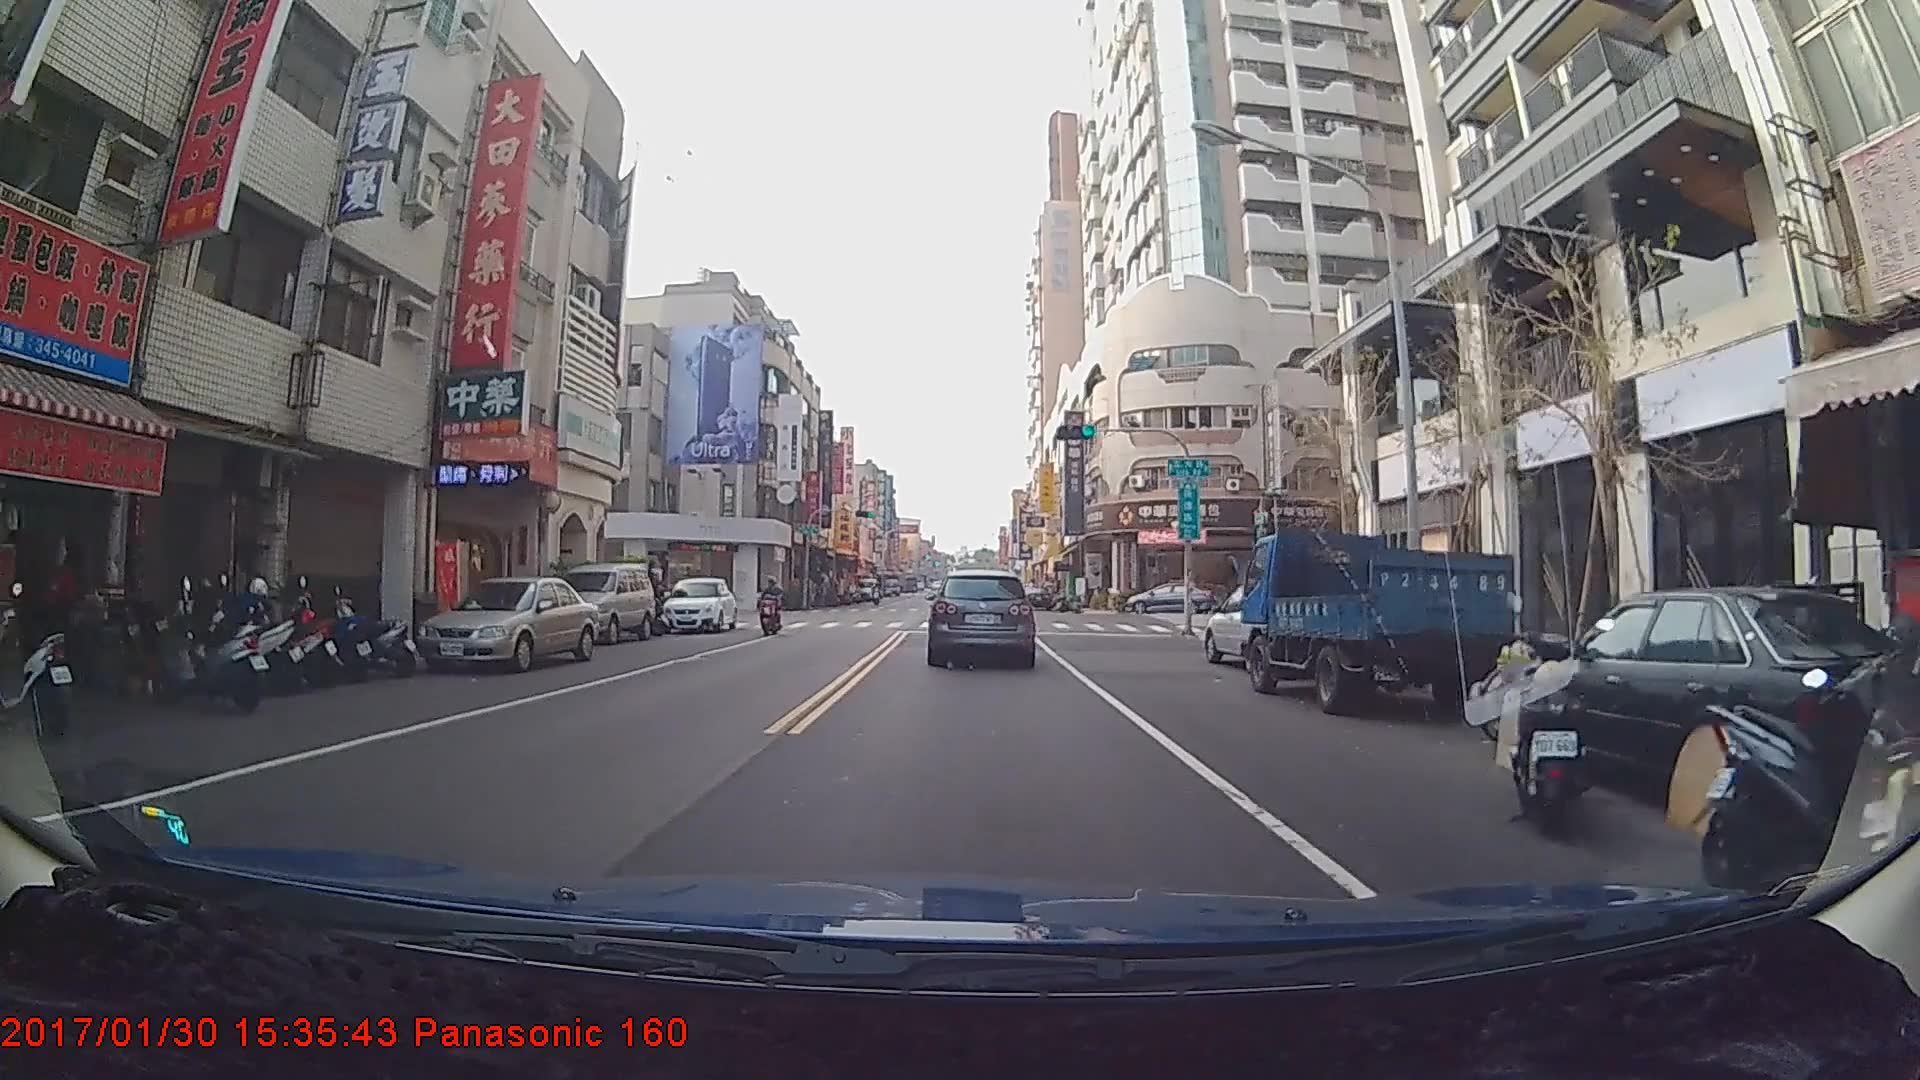rider: (760, 579, 786, 637)
vehicle: (1238, 535, 1515, 716), (415, 573, 599, 671), (1201, 580, 1340, 673), (929, 569, 1034, 667), (544, 560, 656, 647), (661, 576, 736, 633), (1124, 581, 1210, 614), (1021, 583, 1052, 610), (854, 575, 878, 600)
